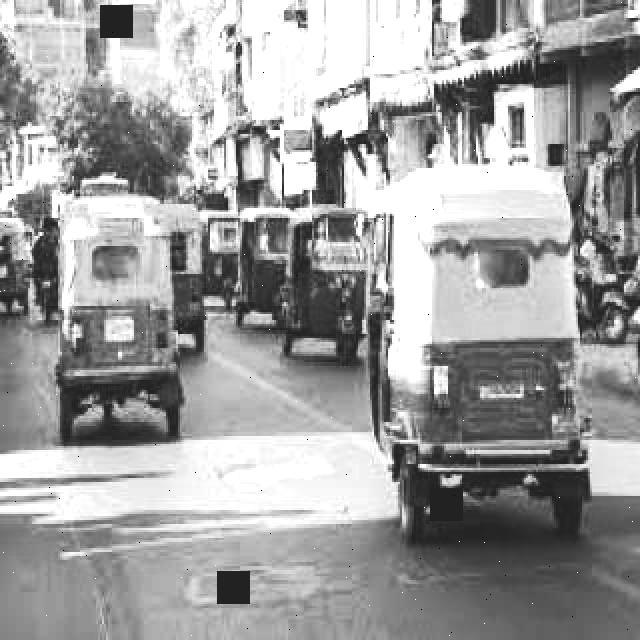Auto-Rickshaw: (358, 178, 598, 532), (38, 178, 212, 450), (234, 204, 366, 366)
